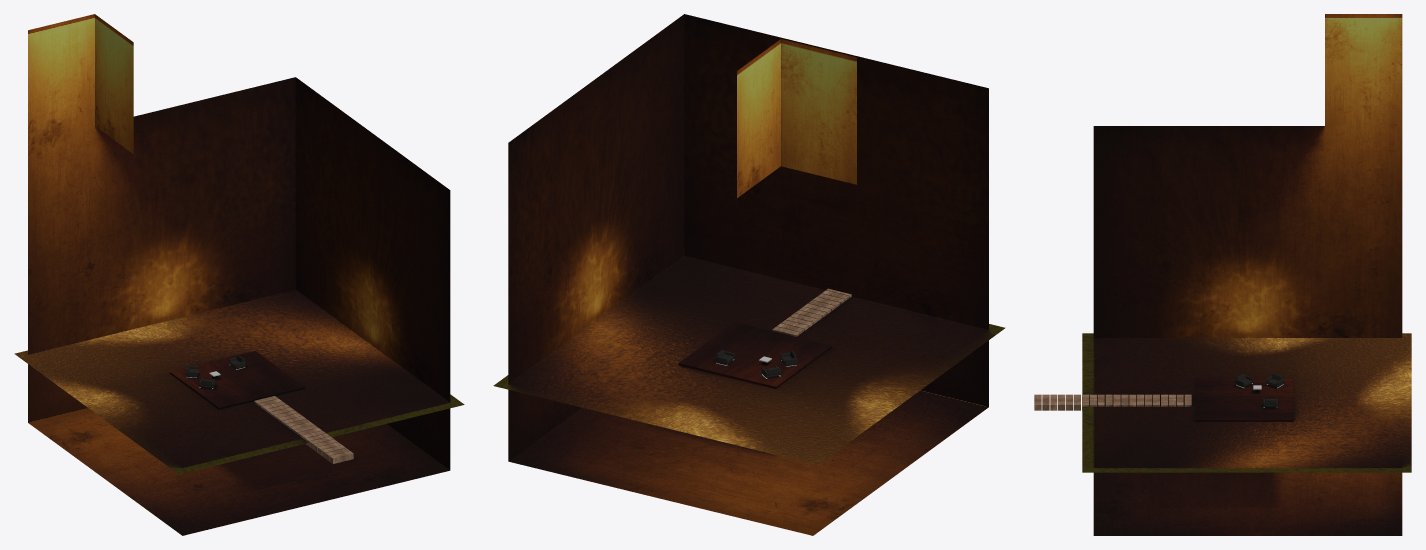
File: wallace_office.gltf
The picture shows the model from 3 angles, left to right: view 1: azimuth 30°, elevation 25°; view 2: azimuth 150°, elevation 25°; view 3: azimuth 270°, elevation 25°; orthographic projection. The views are drawn at different scales.
Visible parts, largest first — view 1: Office, Water, Deck, Center.000, Center.001; view 2: Office, Water, Deck, Center.001; view 3: Office, Water, Deck, Center.000, Center.001.
Boxes of the visible parts, left/top/right/bottom form: Office: left=28, top=14, right=450, bottom=535; Water: left=14, top=289, right=464, bottom=474; Deck: left=169, top=351, right=304, bottom=409; Center.000: left=293, top=425, right=353, bottom=463; Center.001: left=254, top=396, right=314, bottom=431; Office: left=508, top=14, right=988, bottom=535; Water: left=493, top=256, right=1005, bottom=464; Deck: left=678, top=322, right=832, bottom=388; Center.001: left=772, top=297, right=840, bottom=336; Office: left=1093, top=14, right=1402, bottom=535; Water: left=1082, top=333, right=1411, bottom=472; Deck: left=1194, top=378, right=1293, bottom=421; Center.000: left=1034, top=394, right=1112, bottom=410; Center.001: left=1113, top=394, right=1191, bottom=406.
Bounding box in the file's own units: 41.77 × 54.82 × 47.86.
Materials: 8 (8 with a texture image).
